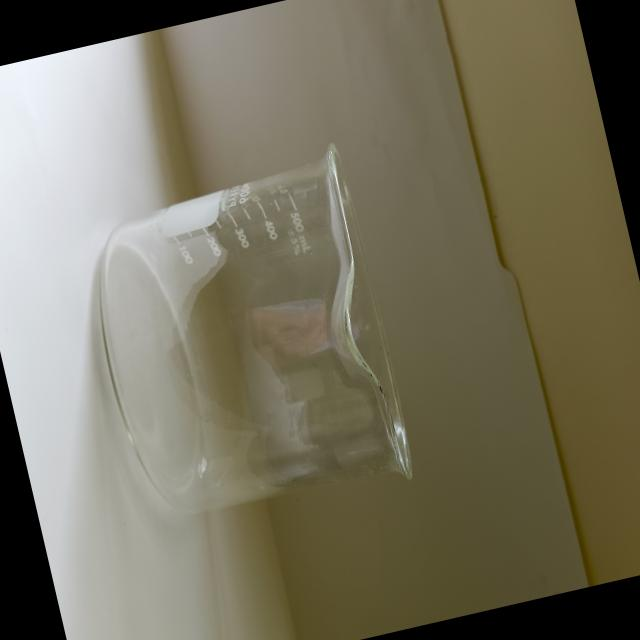beaker: (61, 128, 434, 555)
